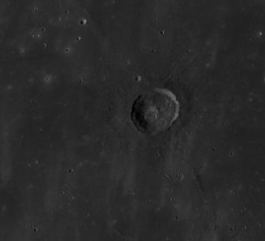crater: (89, 83, 228, 162)
